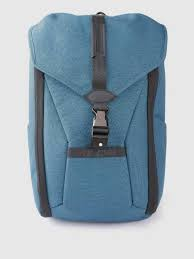backpack: (26, 11, 168, 222)
